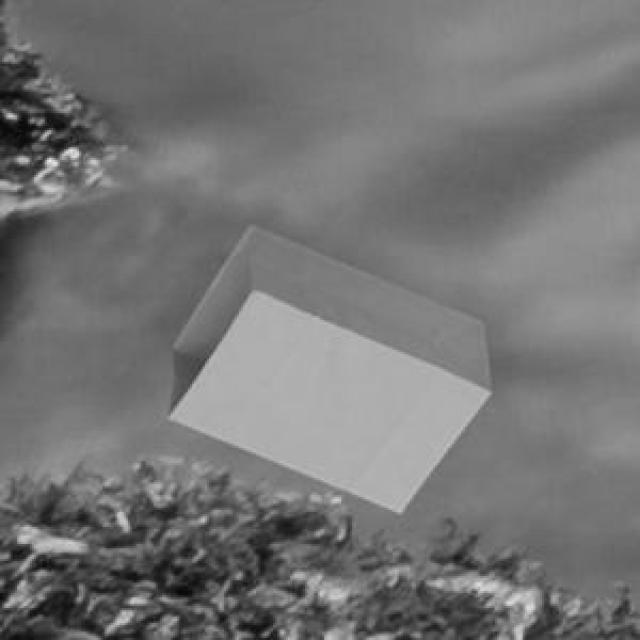paper: (164, 222, 486, 508)
